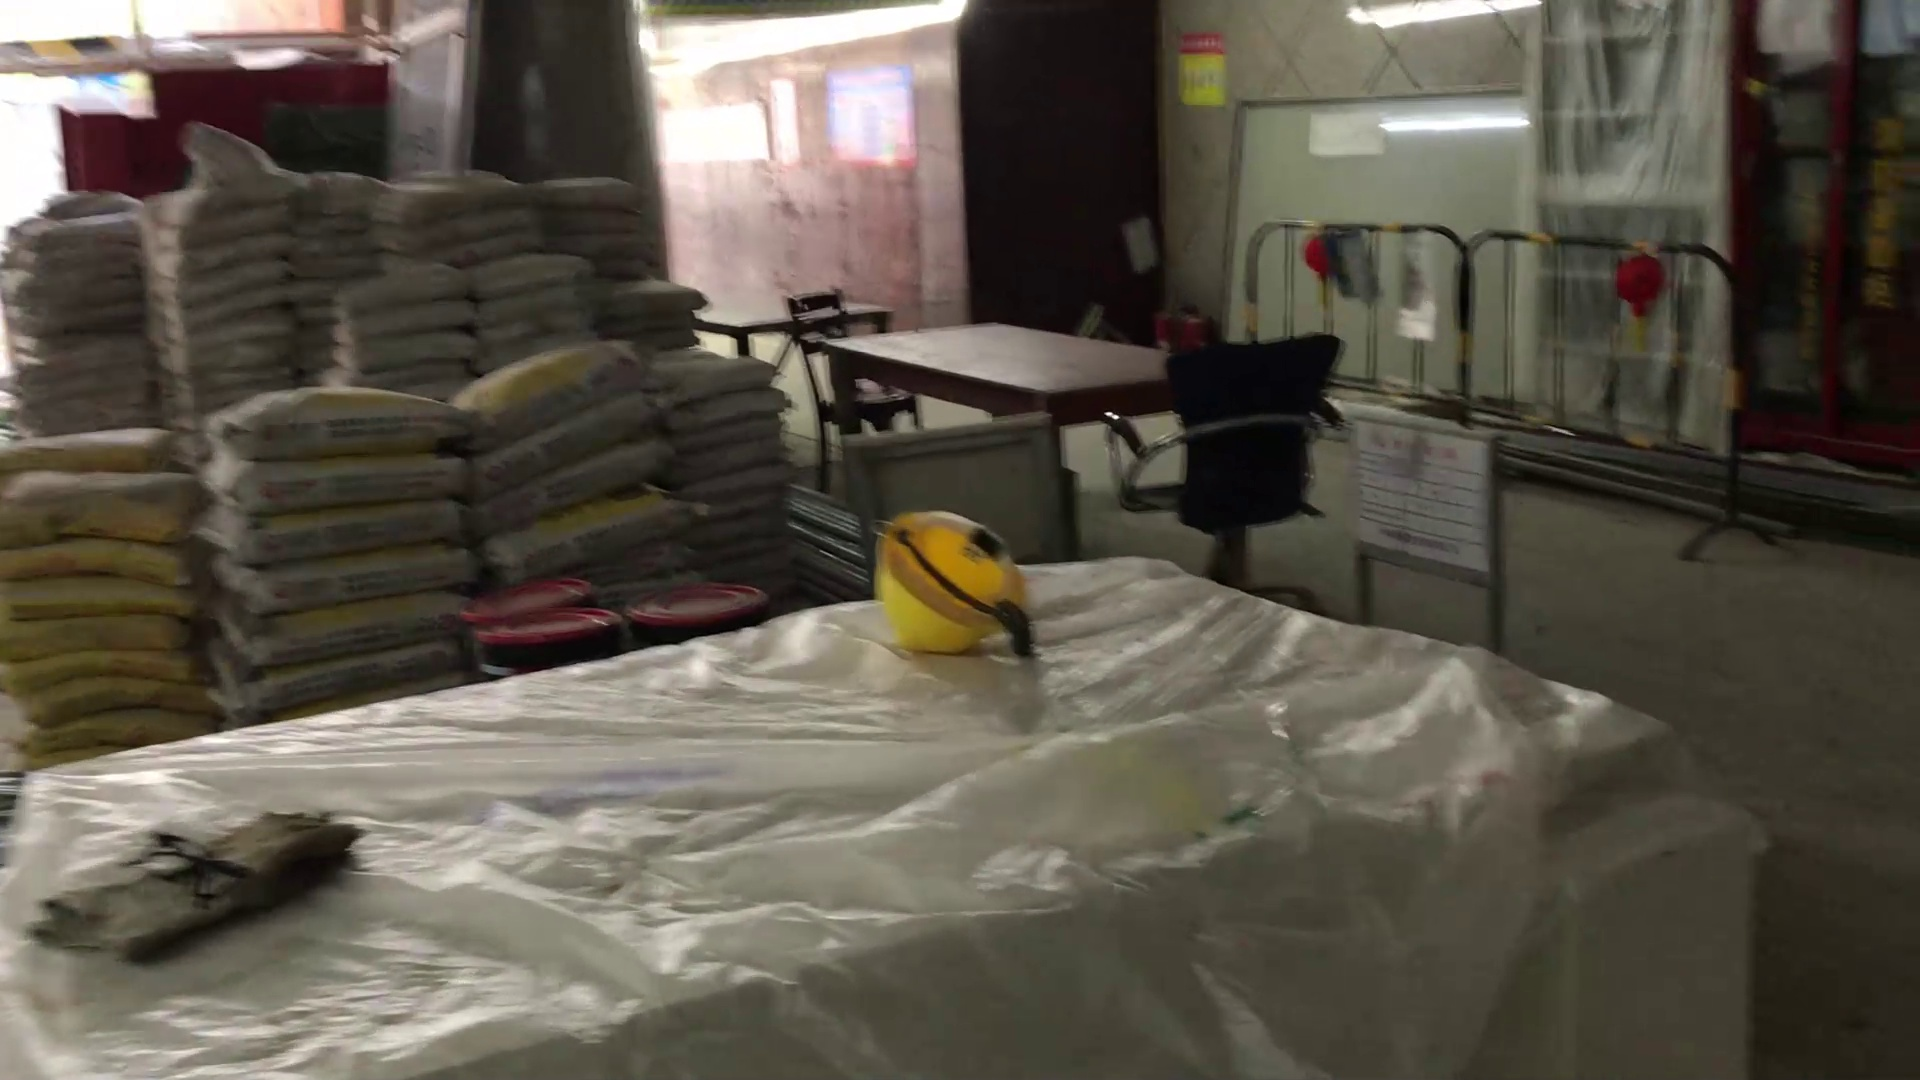fence: (1244, 208, 1774, 560)
helmet: (866, 491, 1035, 650)
slogan: (1172, 30, 1236, 112)
